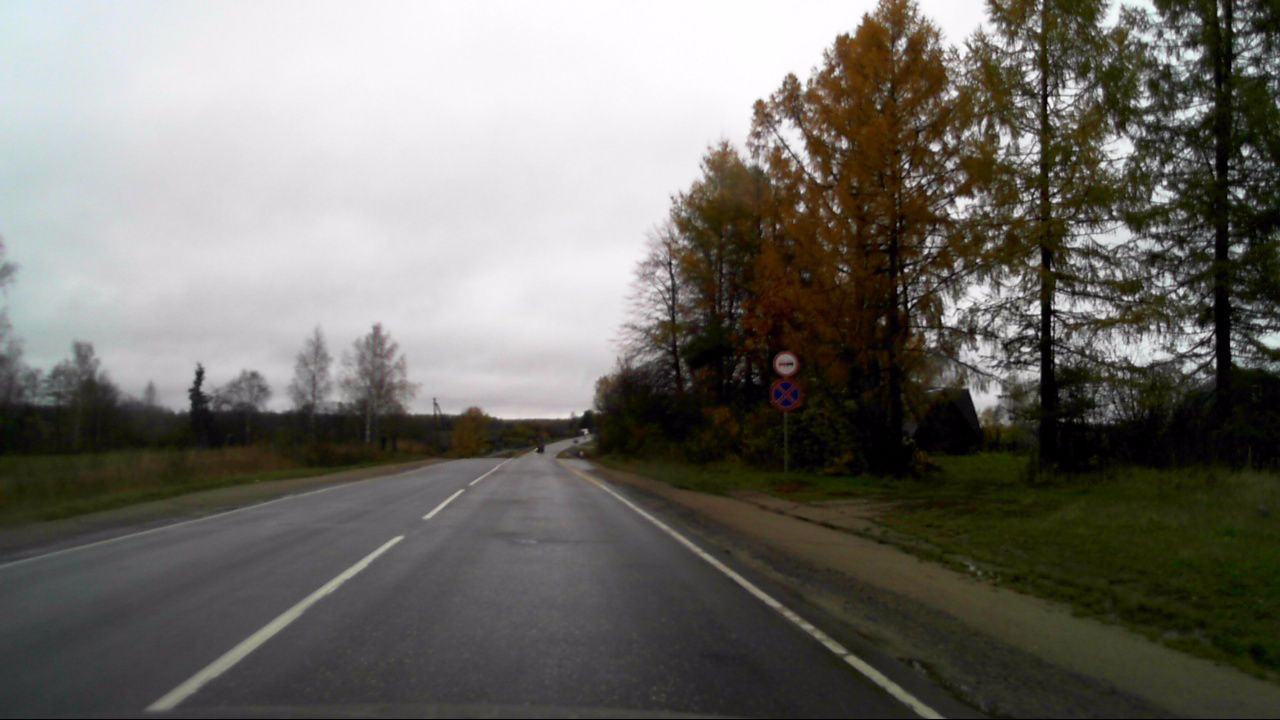No Parking: (767, 374, 805, 412)
